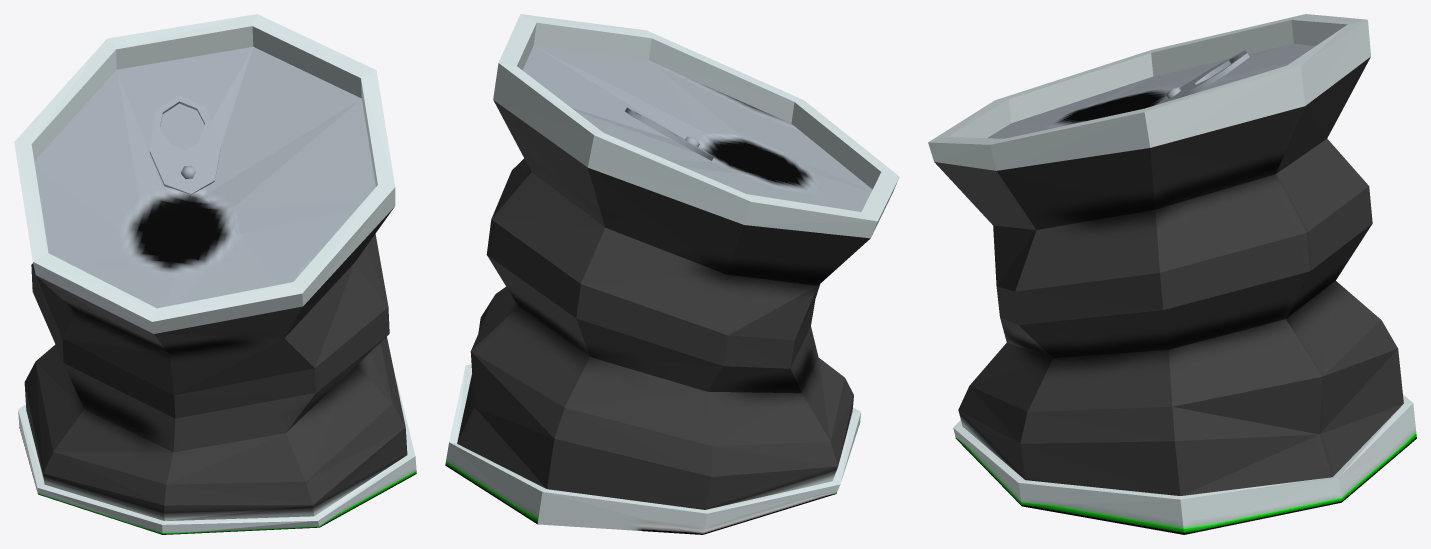
File: Can03.FBX
The picture shows the model from 3 angles, left to right: view 1: azimuth 30°, elevation 25°; view 2: azimuth 150°, elevation 25°; view 3: azimuth 270°, elevation 25°; orthographic projection. The views are drawn at different scales.
Parts seen in each view (by area): view 1: Can03; view 2: Can03; view 3: Can03.
Boxes of the visible parts, x1,y1,x2,y2 form: Can03: (14, 14, 416, 534); Can03: (445, 14, 899, 534); Can03: (928, 14, 1416, 534).
Size of the model in its own units: 46.18 by 46.11 by 43.99.
